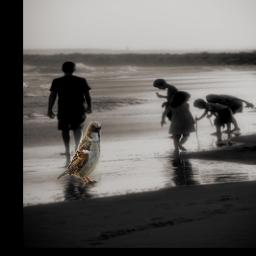Sparrow: (57, 122, 102, 188)
